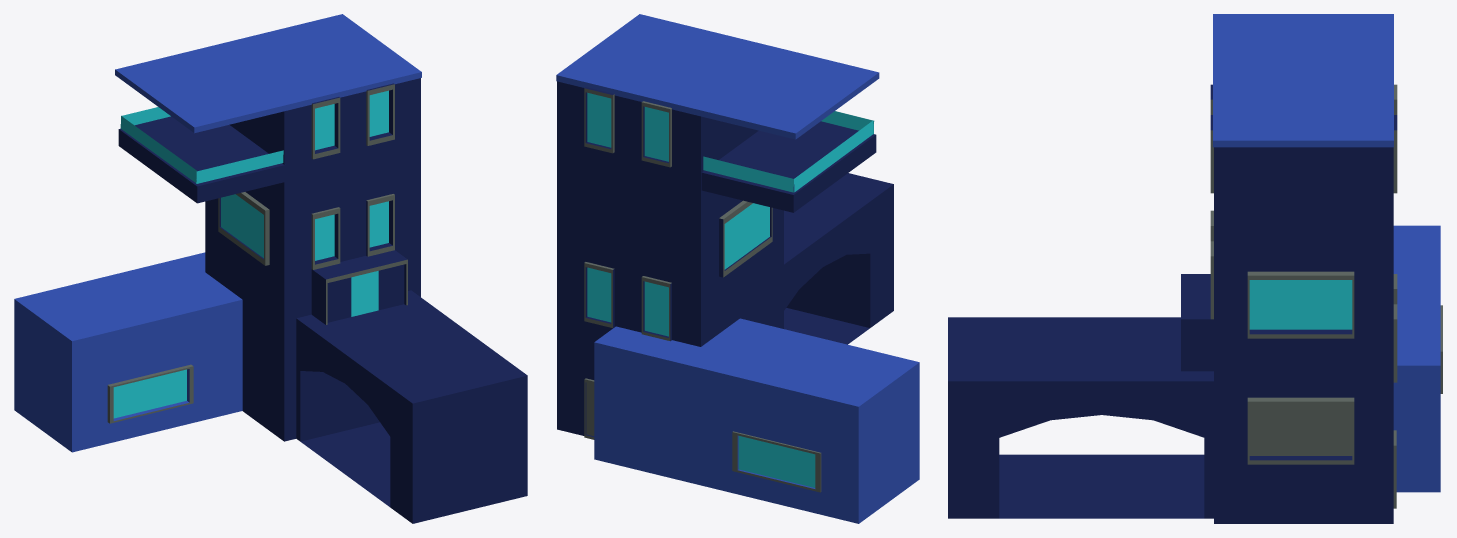
The model's file is Periode4Huis3.fbx.
3 renders of one model, left to right at view 1: azimuth 30°, elevation 25°; view 2: azimuth 150°, elevation 25°; view 3: azimuth 270°, elevation 25°, orthographic. The views are drawn at different scales.
Parts seen in each view (by area): view 1: Cube, Cube.002, Cube.001, Cube.003, Cube.004, Plane, Plane.002; view 2: Cube.001, Cube, Cube.003, Cube.002, Cube.004, Plane.001, Plane.002, Plane; view 3: Cube, Cube.002, Cube.003, Cube.001.
Part boxes in pixels (x1,y1,x2,y2): Cube: (205,78,420,441); Cube.002: (296,290,527,523); Cube.001: (14,252,242,452); Cube.003: (115,14,421,133); Cube.004: (118,116,286,203); Plane: (196,150,283,183); Plane.002: (120,116,196,182); Cube.001: (594,318,919,523); Cube: (557,81,783,439); Cube.003: (556,14,879,139); Cube.002: (784,173,893,344); Cube.004: (701,121,876,212); Plane.001: (703,156,793,192); Plane.002: (794,120,873,192); Plane: (821,111,874,134); Cube: (1181,84,1397,523); Cube.002: (948,317,1213,518); Cube.003: (1213,14,1393,147); Cube.001: (1393,225,1442,492).
Bounding box in the file's own units: 1566 × 1602 × 1872.
